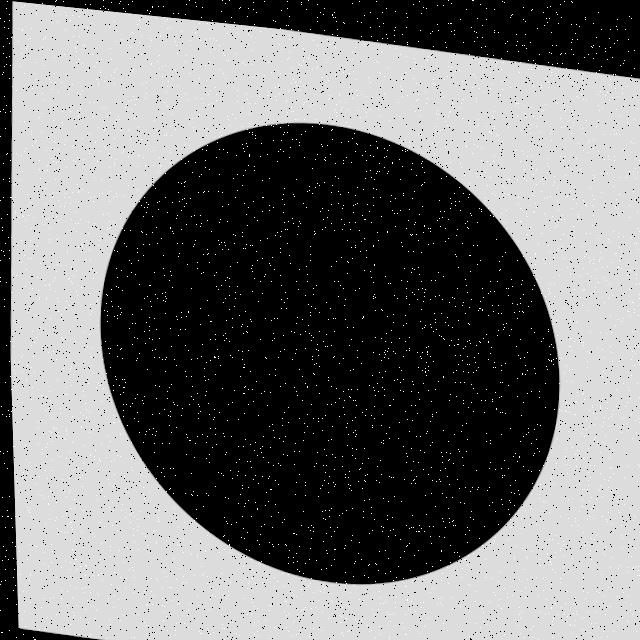CIRCLE: (98, 116, 556, 576)
